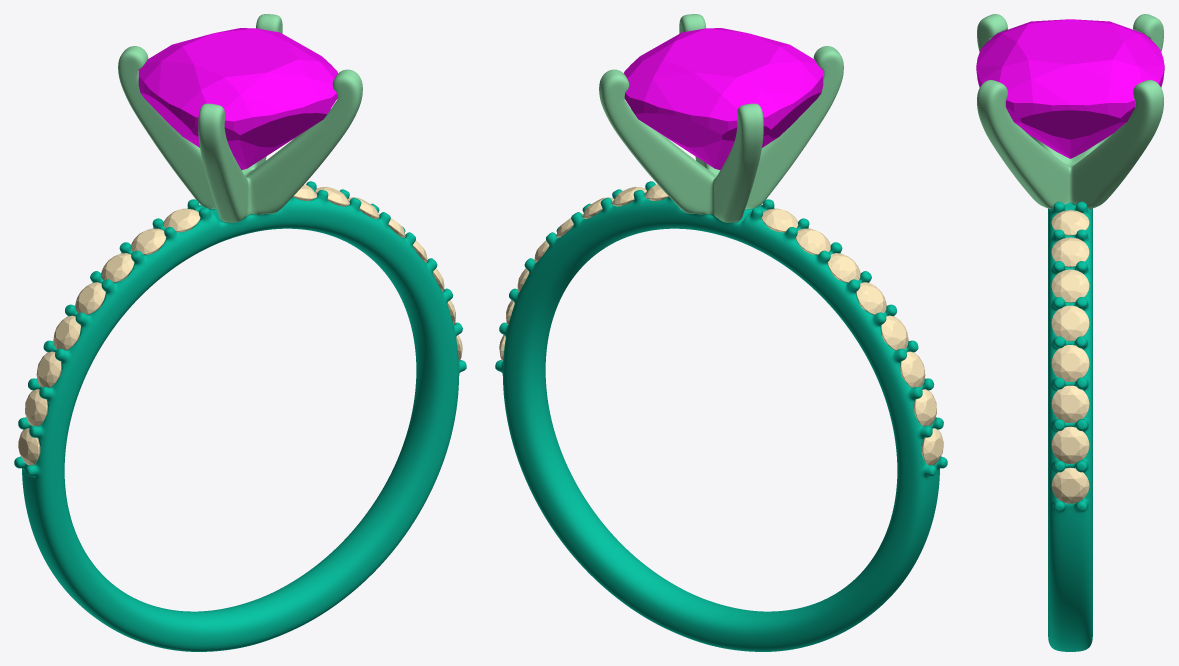
The model's file is BE1PD25R25_CU_200ct_RENDER.glb.
3 views of the same model, side by side, from view 1: azimuth 30°, elevation 25°; view 2: azimuth 150°, elevation 25°; view 3: azimuth 270°, elevation 25° (orthographic).
Visible parts, largest first — view 1: Metal 01, CS_Diamond_Cushion, Metal 02, Diamond_Round_Gem_SH.011, Diamond_Round_Gem_SH.012, Diamond_Round_Gem_SH.010, Diamond_Round_Gem_SH.013, Diamond_Round_Gem_SH.009, Diamond_Round_Gem_SH.014, Diamond_Round_Gem_SH.008; view 2: Metal 01, CS_Diamond_Cushion, Metal 02, Diamond_Round_Gem_SH.011, Diamond_Round_Gem_SH.012, Diamond_Round_Gem_SH.010, Diamond_Round_Gem_SH.013, Diamond_Round_Gem_SH.009, Diamond_Round_Gem_SH.014, Diamond_Round_Gem_SH.008; view 3: CS_Diamond_Cushion, Metal 01, Metal 02, Diamond_Round_Gem_SH.002, Diamond_Round_Gem_SH.001, Diamond_Round_Gem_SH.003, Diamond_Round_Gem_SH, Diamond_Round_Gem_SH.004, Diamond_Round_Gem_SH.005, Diamond_Round_Gem_SH.006, Diamond_Round_Gem_SH.007.
Boxes of the visible parts, x1=… form: Metal 01: x1=14, y1=181, x2=466, y2=651; CS_Diamond_Cushion: x1=138, y1=28, x2=338, y2=170; Metal 02: x1=118, y1=14, x2=362, y2=222; Diamond_Round_Gem_SH.011: x1=75, y1=282, x2=105, y2=314; Diamond_Round_Gem_SH.012: x1=53, y1=315, x2=80, y2=350; Diamond_Round_Gem_SH.010: x1=101, y1=253, x2=134, y2=282; Diamond_Round_Gem_SH.013: x1=36, y1=351, x2=61, y2=387; Diamond_Round_Gem_SH.009: x1=131, y1=228, x2=166, y2=254; Diamond_Round_Gem_SH.014: x1=25, y1=389, x2=47, y2=426; Diamond_Round_Gem_SH.008: x1=164, y1=208, x2=200, y2=232; Metal 01: x1=495, y1=181, x2=947, y2=651; CS_Diamond_Cushion: x1=623, y1=28, x2=823, y2=170; Metal 02: x1=599, y1=14, x2=843, y2=222; Diamond_Round_Gem_SH.011: x1=856, y1=282, x2=886, y2=314; Diamond_Round_Gem_SH.012: x1=881, y1=315, x2=908, y2=350; Diamond_Round_Gem_SH.010: x1=827, y1=253, x2=860, y2=282; Diamond_Round_Gem_SH.013: x1=900, y1=351, x2=925, y2=387; Diamond_Round_Gem_SH.009: x1=795, y1=228, x2=830, y2=254; Diamond_Round_Gem_SH.014: x1=914, y1=389, x2=936, y2=426; Diamond_Round_Gem_SH.008: x1=761, y1=208, x2=798, y2=232; CS_Diamond_Cushion: x1=976, y1=19, x2=1164, y2=158; Metal 01: x1=1048, y1=201, x2=1092, y2=651; Metal 02: x1=977, y1=14, x2=1163, y2=209; Diamond_Round_Gem_SH.002: x1=1051, y1=385, x2=1089, y2=422; Diamond_Round_Gem_SH.001: x1=1051, y1=426, x2=1089, y2=463; Diamond_Round_Gem_SH.003: x1=1051, y1=345, x2=1089, y2=381; Diamond_Round_Gem_SH: x1=1051, y1=467, x2=1089, y2=503; Diamond_Round_Gem_SH.004: x1=1051, y1=305, x2=1089, y2=341; Diamond_Round_Gem_SH.005: x1=1051, y1=269, x2=1089, y2=302; Diamond_Round_Gem_SH.006: x1=1051, y1=237, x2=1089, y2=266; Diamond_Round_Gem_SH.007: x1=1051, y1=210, x2=1089, y2=235.
Size of the model in its own units: 20.13 by 25.84 by 7.5.
